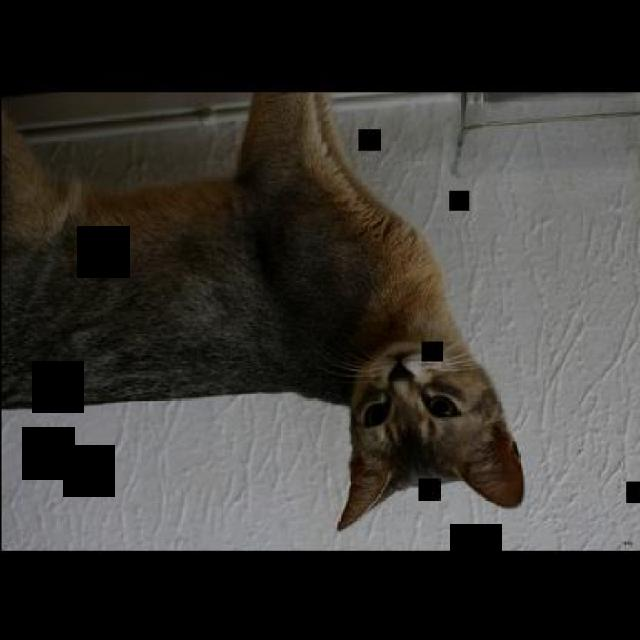unauthorized: (0, 89, 525, 531)
